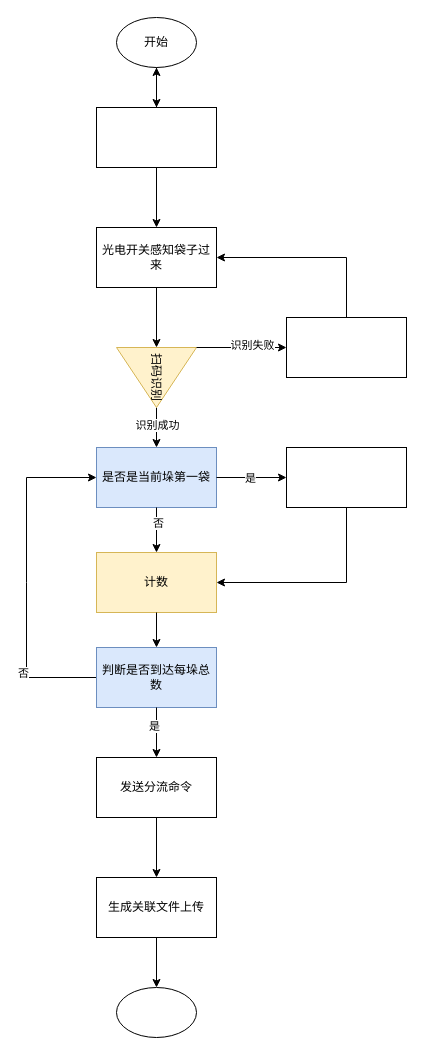
This 424x1055 diagram has some shape labels left out. Each missing label, with the box of its shape:
作为大码关联剩余后续当前垛所有码（包括自己）: (286, 446, 406, 508)
小麦袋封口: (96, 106, 216, 168)
结束: (116, 986, 196, 1038)
触发气缸，根据延时剔除: (286, 316, 406, 378)
